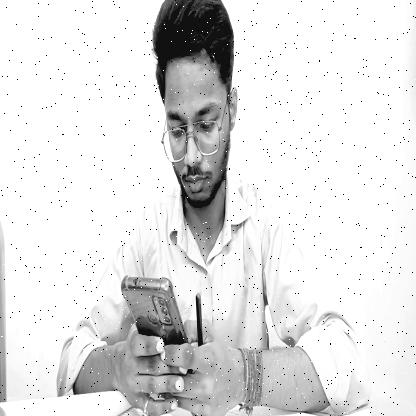Distracted: (153, 1, 237, 214)
